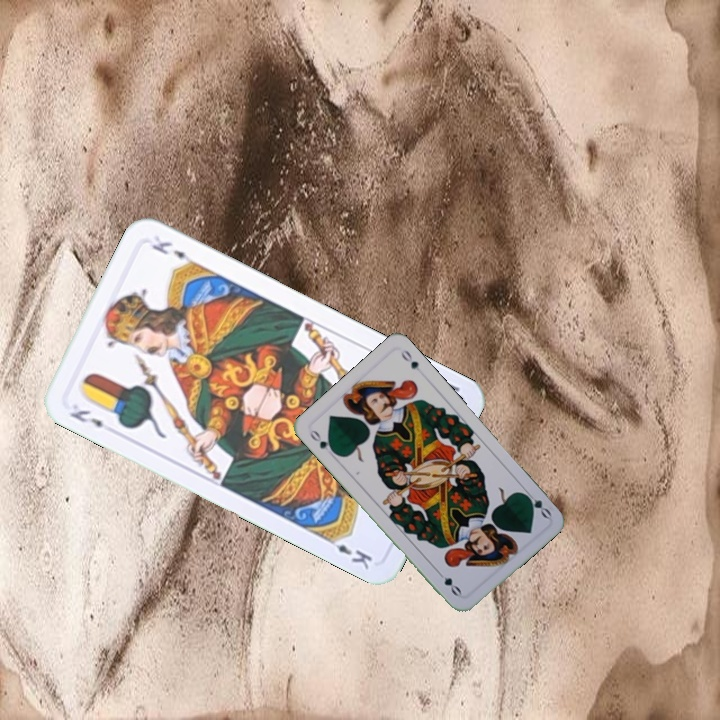EK: (65, 406, 106, 430)
GO: (519, 486, 554, 521), (305, 426, 339, 460)
